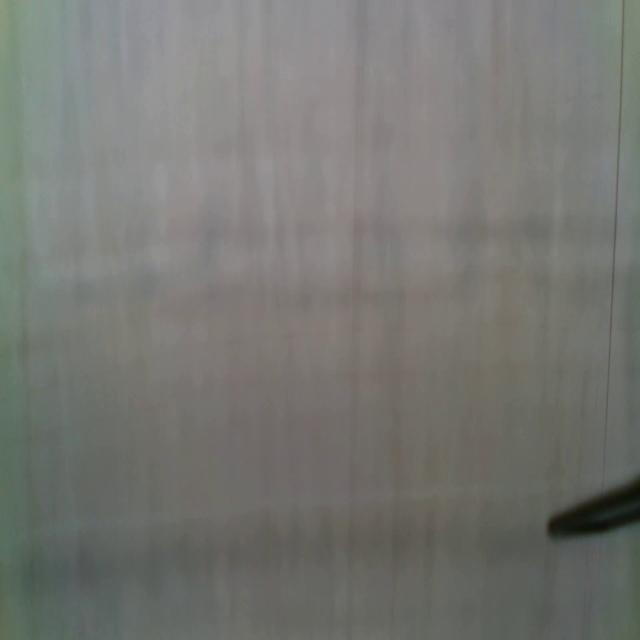color bleeding: (47, 207, 635, 319), (17, 504, 541, 613)
crease: (602, 0, 627, 487)
